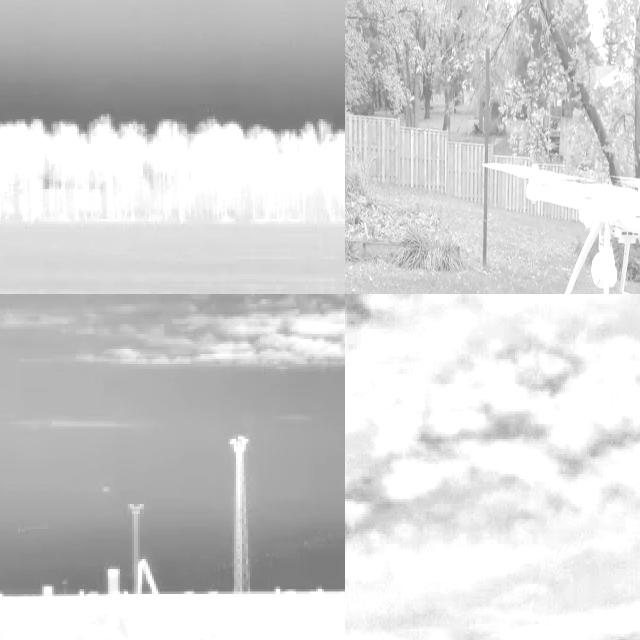0: (88, 476, 112, 504)
drone: (496, 177, 640, 294)
